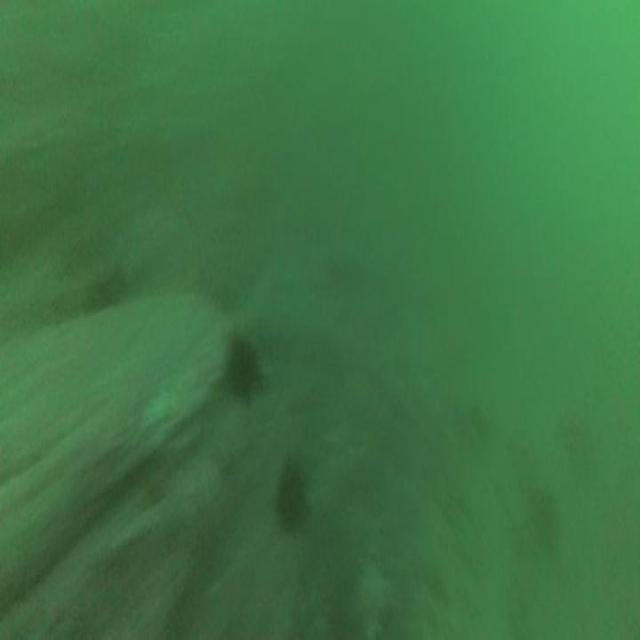echinus: (273, 447, 313, 542), (223, 332, 266, 408)
